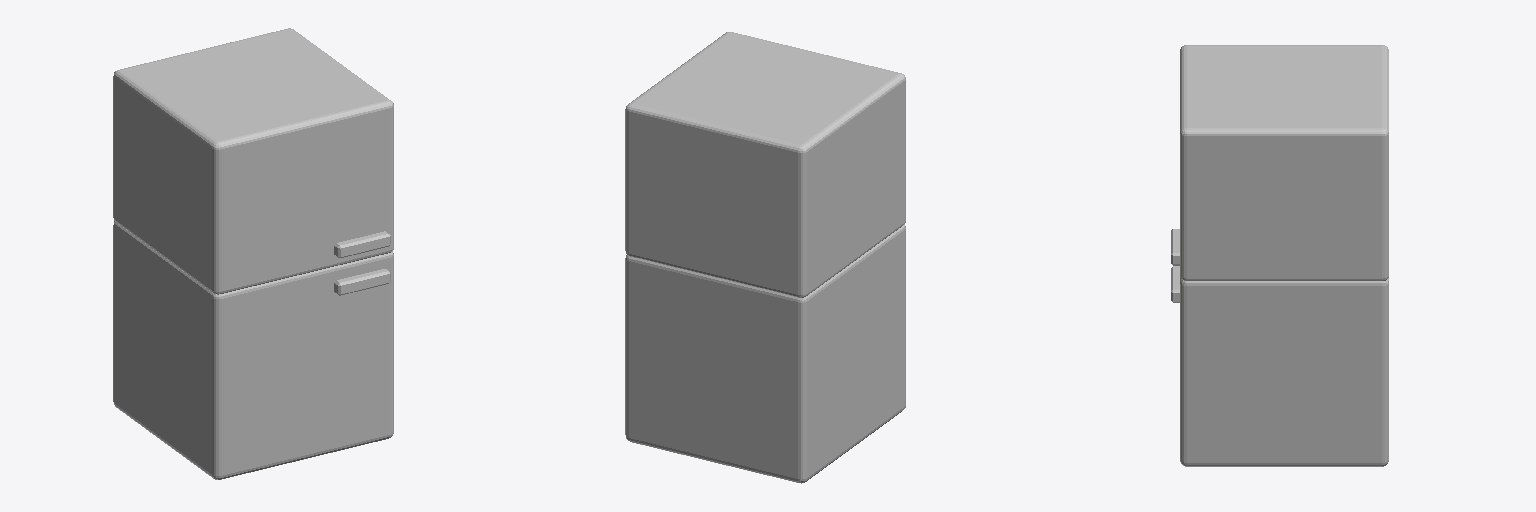
The model's file is fridge.obj.
3 views of the same model, side by side, from view 1: azimuth 30°, elevation 25°; view 2: azimuth 150°, elevation 25°; view 3: azimuth 270°, elevation 25° (orthographic).
Visible parts, largest first — view 1: _1, _2, default, _3; view 2: _1, _2; view 3: _1, _2.
Part boxes in pixels (left/top/right/bottom): _1: left=113, top=28, right=393, bottom=294; _2: left=113, top=221, right=393, bottom=479; default: left=334, top=231, right=390, bottom=257; _3: left=334, top=269, right=390, bottom=295; _1: left=625, top=32, right=905, bottom=297; _2: left=625, top=224, right=905, bottom=483; _1: left=1180, top=45, right=1388, bottom=280; _2: left=1180, top=277, right=1388, bottom=466.
Size of the model in its own units: 8.1 by 14.45 by 8.46.